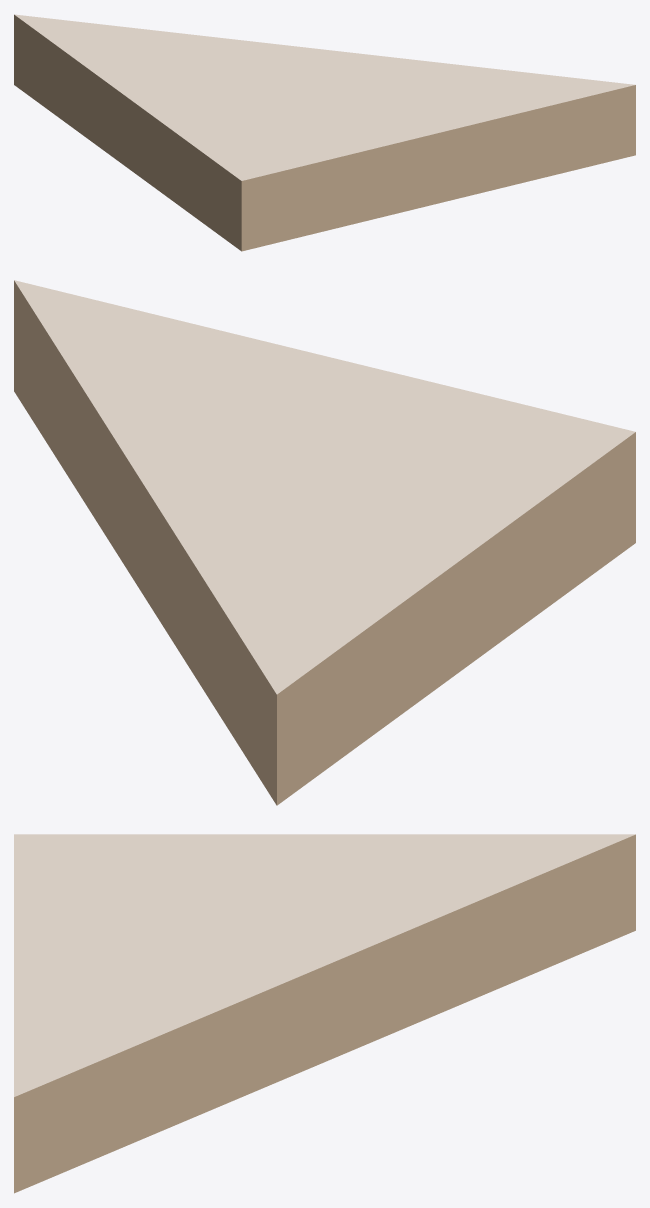
The model's file is Floor_Curved_Large_Outer.fbx.
3 renders of one model, top to bottom at view 1: azimuth 30°, elevation 25°; view 2: azimuth 150°, elevation 25°; view 3: azimuth 270°, elevation 25°, orthographic. The views are drawn at different scales.
Parts seen in each view (by area): view 1: Sandstone_Trim.object1, Sandstone_Floor; view 2: Sandstone_Floor, Sandstone_Trim.object1; view 3: Sandstone_Floor, Sandstone_Trim.object1.
Boxes of the visible parts, bbox=[...] form: Sandstone_Trim.object1: bbox=[14, 14, 635, 251]; Sandstone_Floor: bbox=[14, 14, 635, 180]; Sandstone_Floor: bbox=[14, 280, 635, 694]; Sandstone_Trim.object1: bbox=[14, 280, 635, 805]; Sandstone_Floor: bbox=[14, 834, 635, 1096]; Sandstone_Trim.object1: bbox=[14, 834, 635, 1193].
Size of the model in its own units: 1.17 by 0.2 by 1.17.
